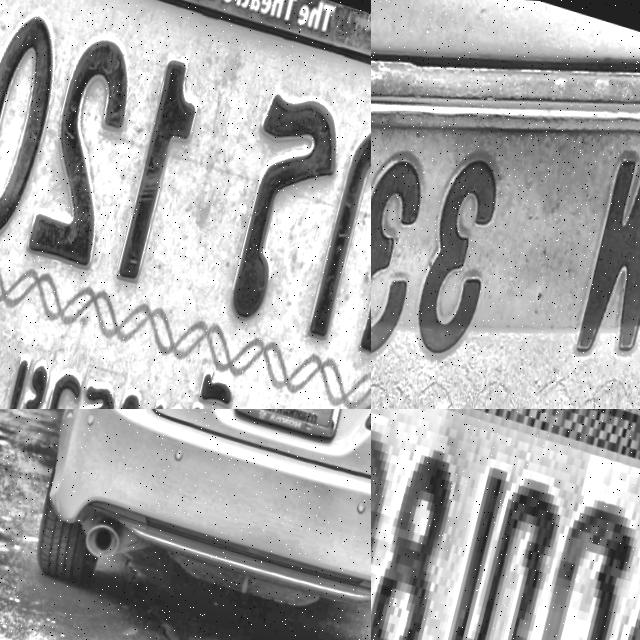license-plate: (0, 0, 371, 409), (371, 0, 640, 409), (371, 409, 640, 640), (227, 409, 352, 443)
